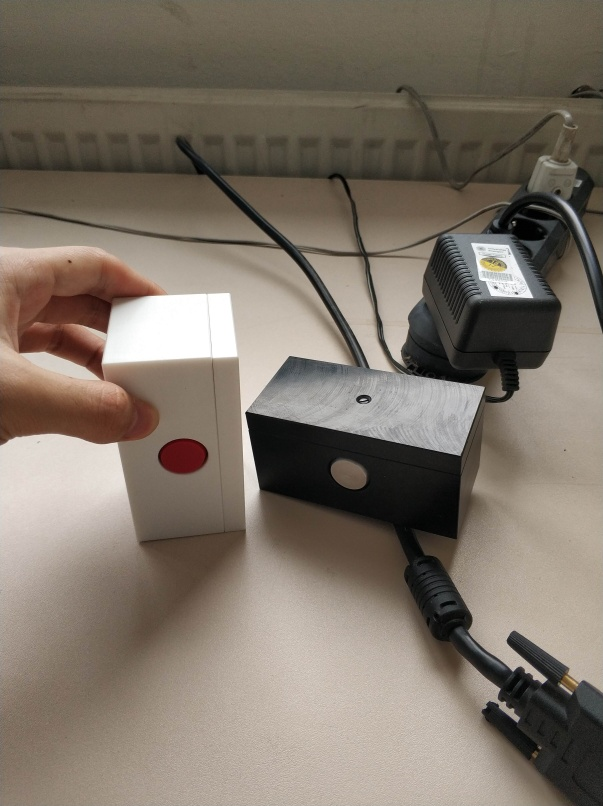black+black+silver: (241, 352, 488, 542)
white+white+red: (97, 290, 244, 547)
